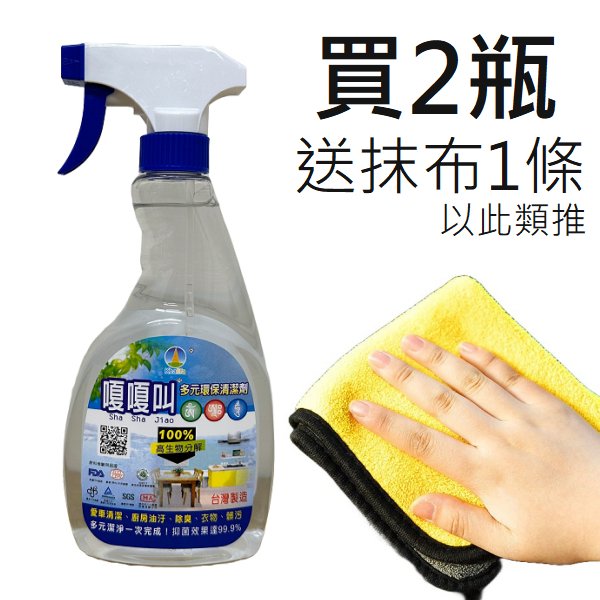cleaner: (49, 42, 276, 572)
